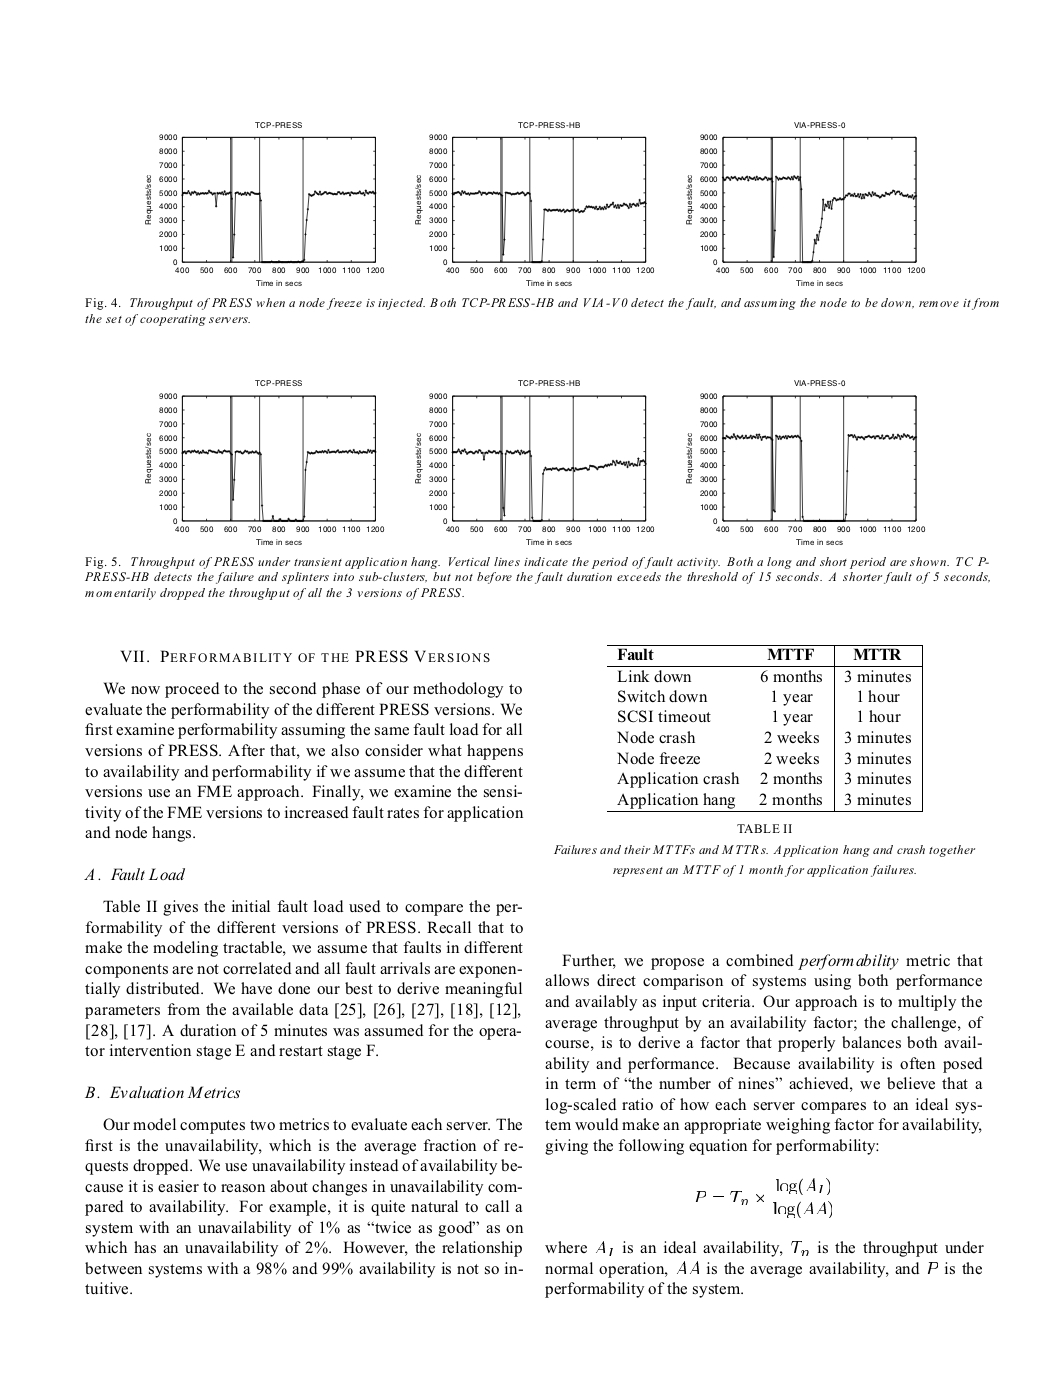Table: (607, 644, 922, 812)
figure: (145, 134, 385, 285), (415, 134, 654, 285), (687, 134, 925, 285), (145, 393, 385, 544), (415, 393, 654, 544), (687, 393, 925, 544), (145, 134, 385, 273)
formula: (695, 1177, 831, 1218)
